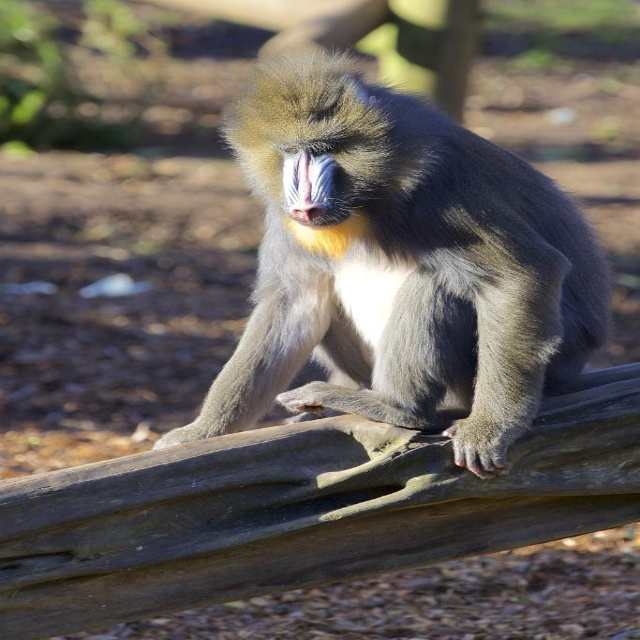Monkey: (152, 42, 617, 480)
